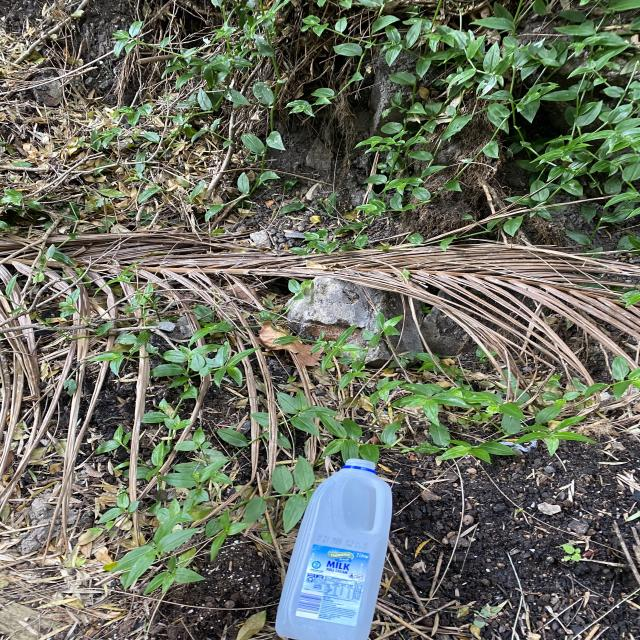bottle: (273, 458, 392, 640)
